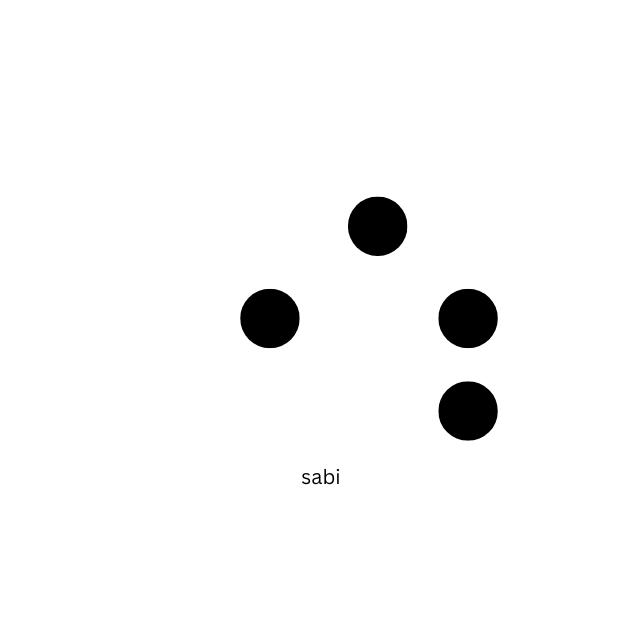dot_5: (148, 200, 299, 445)
two_cell_non_alphabet_sabi: (347, 197, 498, 442)
